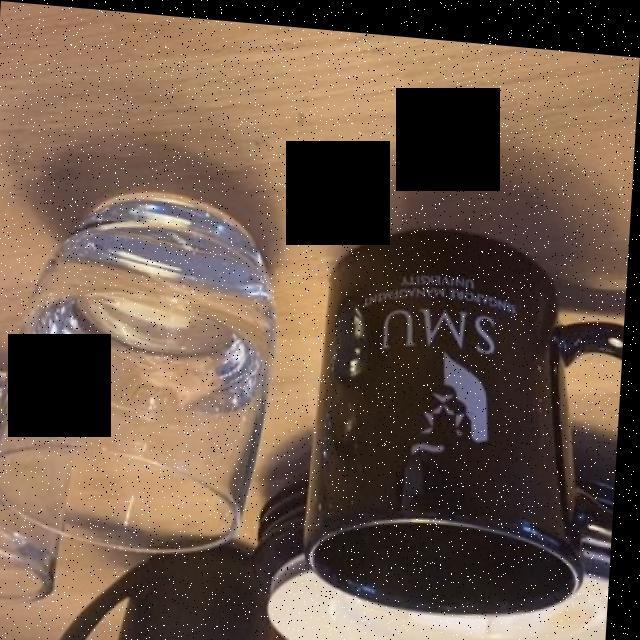water: (44, 204, 264, 407)
